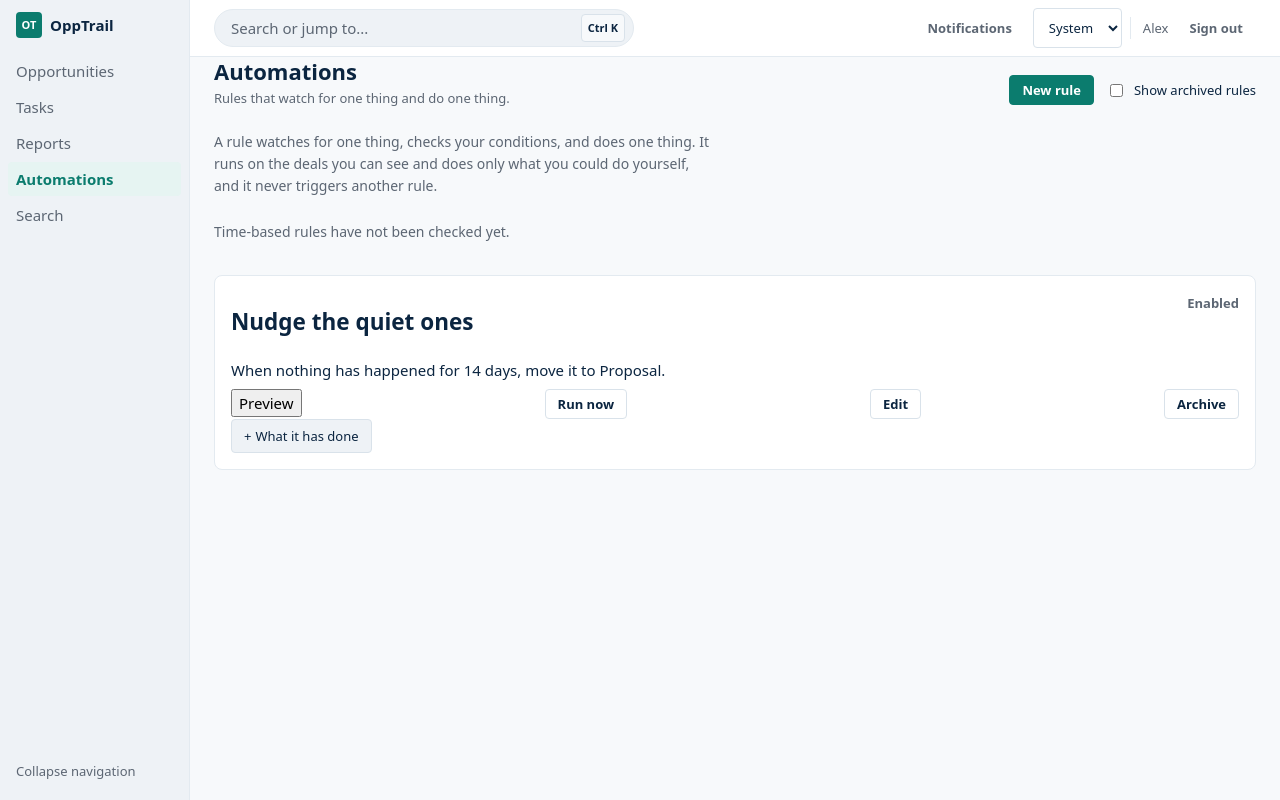
Test: previewing before running › asks before running for real, because it writes to deals off screen
Expected: the heading "Automations" is shown, [214,56,357,86]
Click the button "Run now" at (586, 404), box [544,389,627,419]
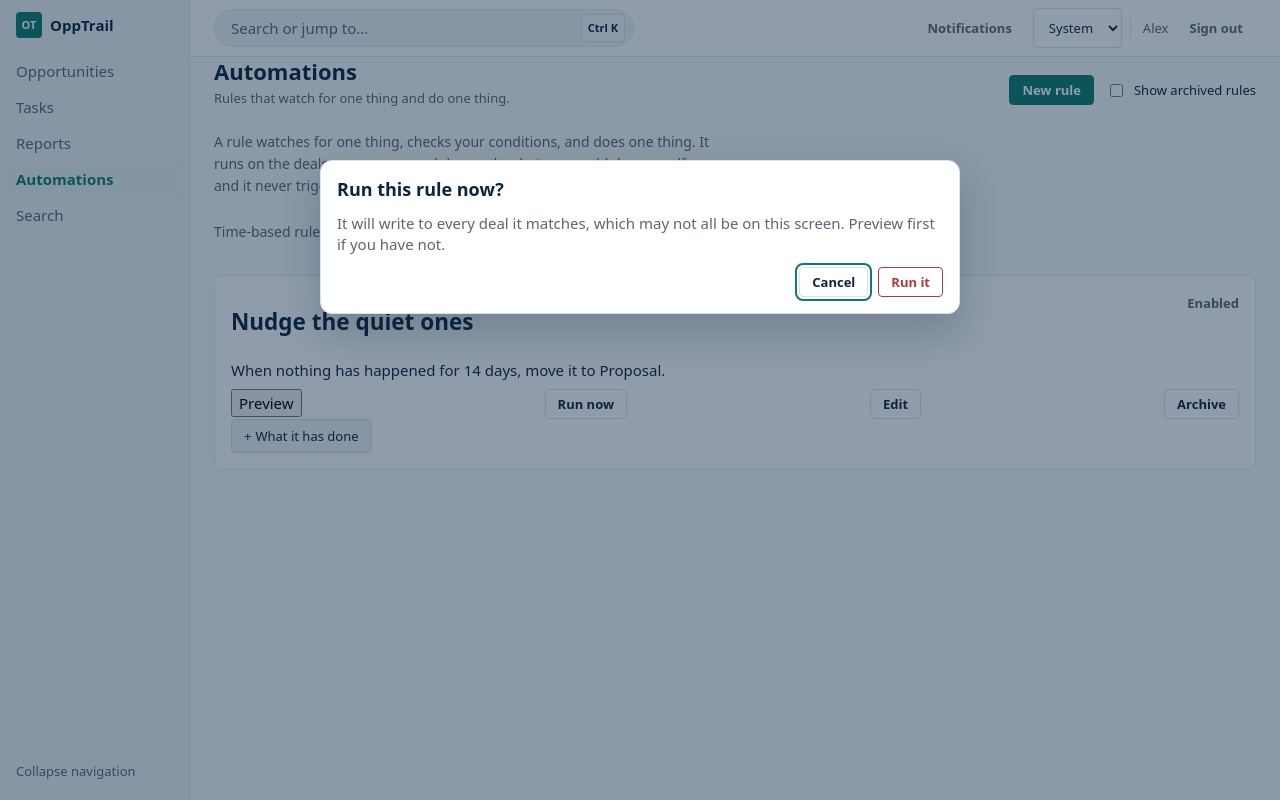
Click the button "Run it" at (911, 282), box [878,267,943,297]
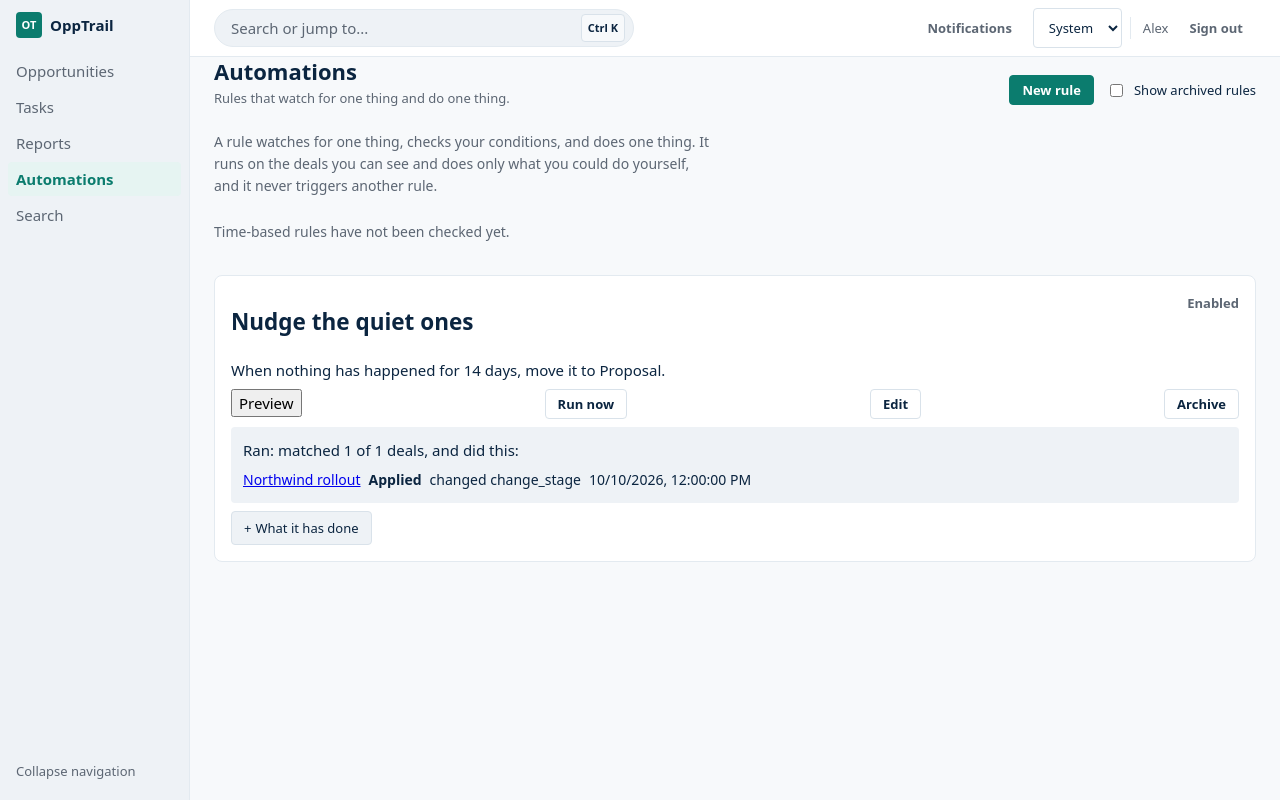
Expected: the text "Ran: matched 1 of 1 deals, and did this:" is shown, [243,440,519,460]
